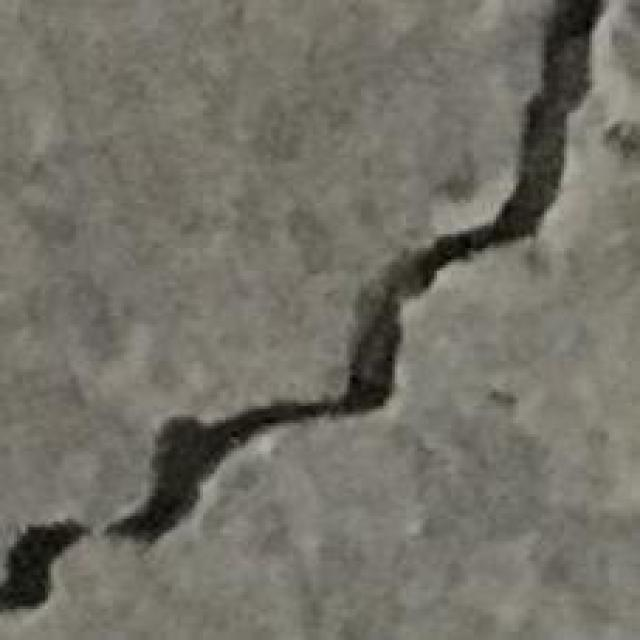Crack: (14, 2, 618, 599)
